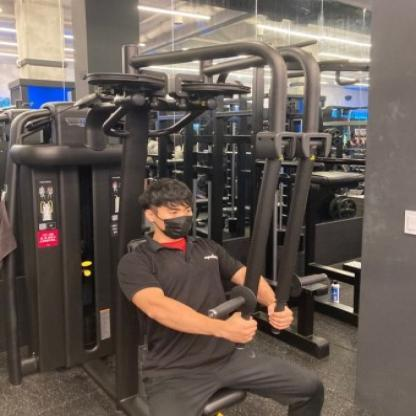chest fly machine: (0, 0, 358, 416)
